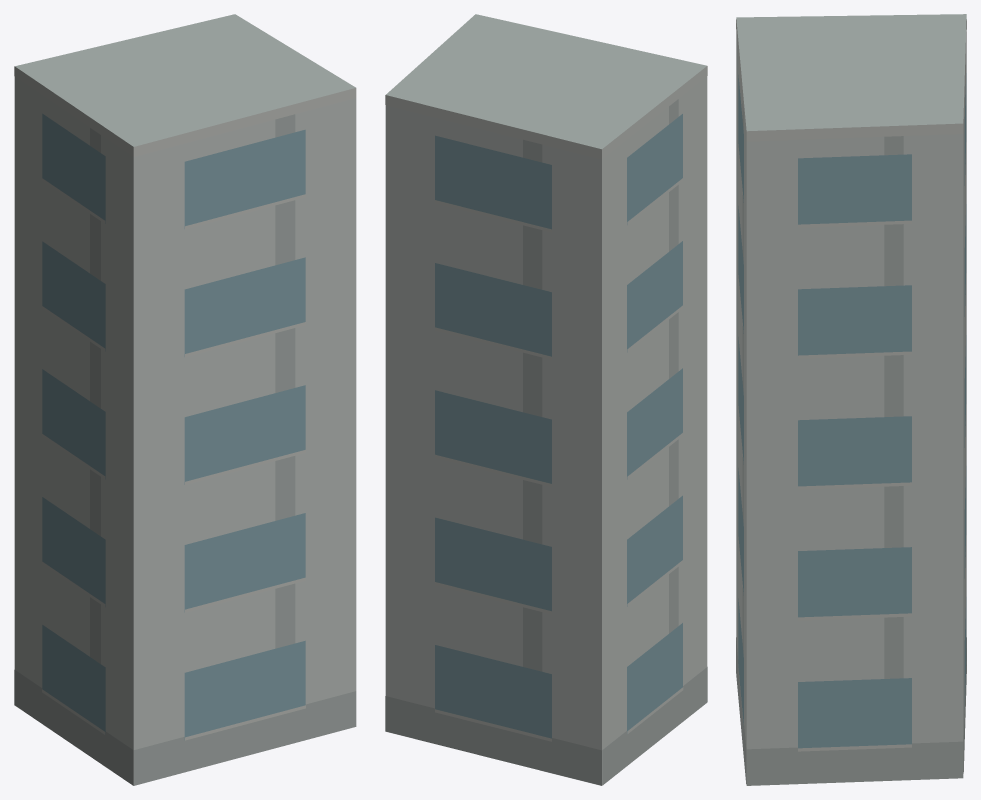
Rendered from survey-upis-32580899.glb.
The picture shows the model from 3 angles, left to right: view 1: azimuth 30°, elevation 25°; view 2: azimuth 150°, elevation 25°; view 3: azimuth 270°, elevation 25°; orthographic projection. The views are drawn at different scales.
Visible parts, largest first — view 1: survey-upis-32580899.tmp; view 2: survey-upis-32580899.tmp; view 3: survey-upis-32580899.tmp.
Boxes of the visible parts, bbox=[...] form: survey-upis-32580899.tmp: bbox=[14, 14, 356, 785]; survey-upis-32580899.tmp: bbox=[385, 14, 707, 785]; survey-upis-32580899.tmp: bbox=[736, 14, 966, 785].
Bounding box in the file's own units: 5.86 × 15.25 × 4.88.
